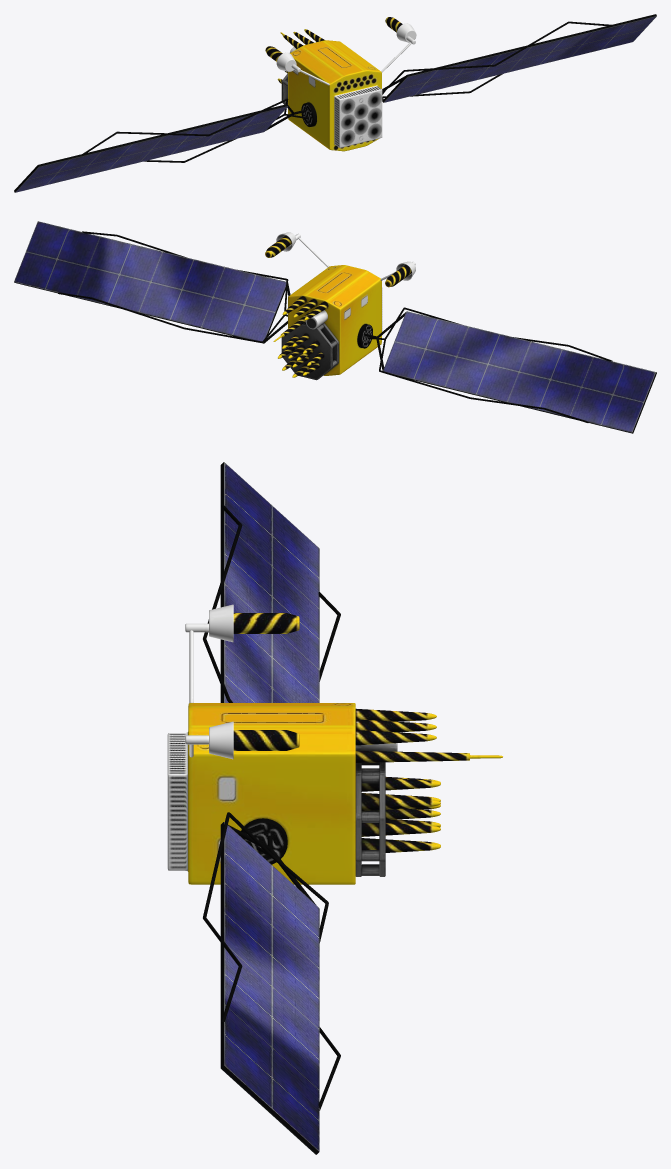
The model's file is satellite.gltf.
3 views of the same model, one above another, from view 1: azimuth 30°, elevation 25°; view 2: azimuth 150°, elevation 25°; view 3: azimuth 270°, elevation 25° (orthographic). The views are drawn at different scales.
Visible parts, largest first — view 1: 10477_Satellite_v1_L3; view 2: 10477_Satellite_v1_L3; view 3: 10477_Satellite_v1_L3.
Part boxes in pixels (x1=…): 10477_Satellite_v1_L3: x1=14, y1=14, x2=656, y2=192; 10477_Satellite_v1_L3: x1=14, y1=221, x2=656, y2=433; 10477_Satellite_v1_L3: x1=167, y1=462, x2=502, y2=1154.
Size of the model in its own units: 199 by 31.49 by 46.73.
1 material, 1 textured.
